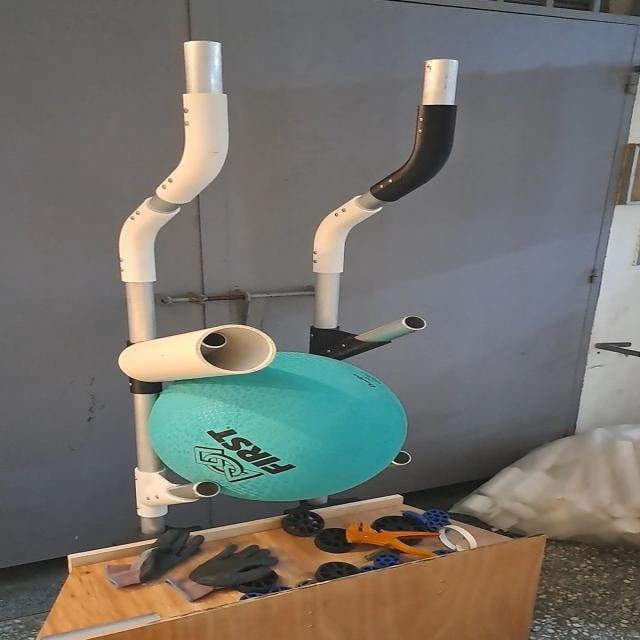ALGAE: (146, 351, 411, 502)
CORAL: (121, 322, 275, 387)
